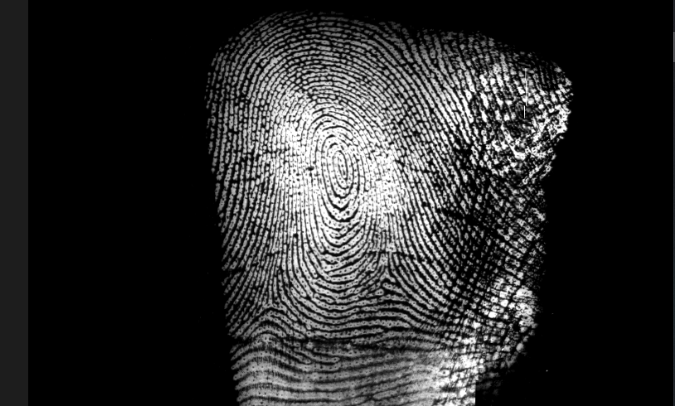deltas: (251, 276, 293, 326), (363, 247, 410, 290)
nucleo: (322, 143, 355, 184)
